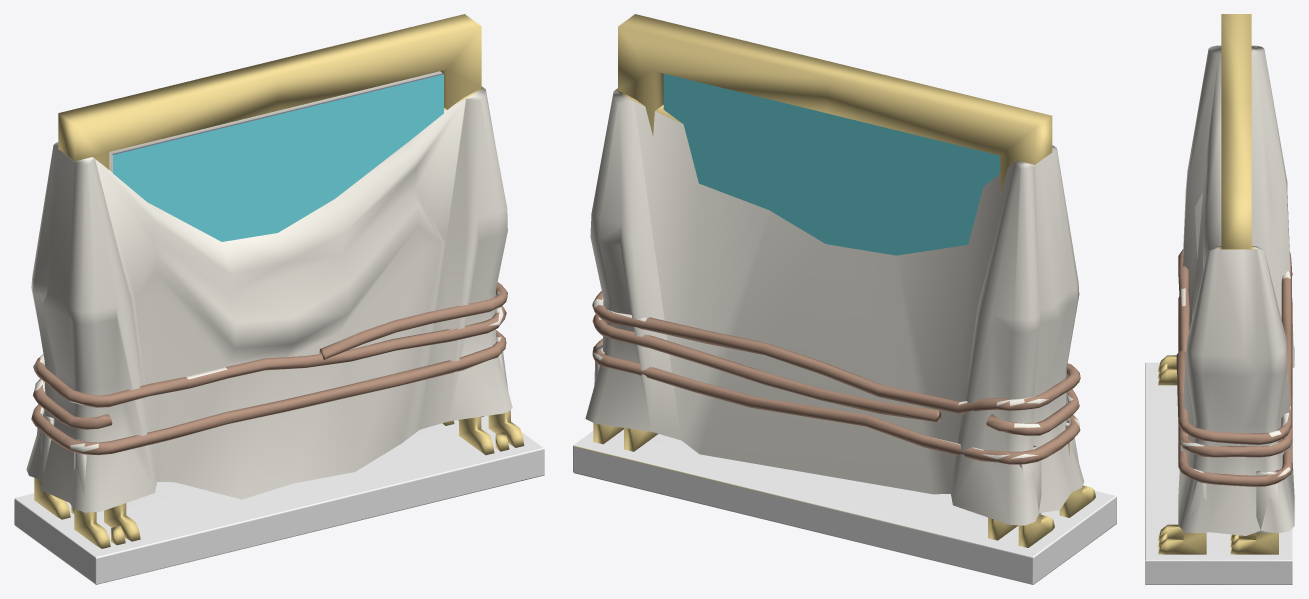
File: mirror_wide.glb
The picture shows the model from 3 angles, left to right: view 1: azimuth 30°, elevation 25°; view 2: azimuth 150°, elevation 25°; view 3: azimuth 270°, elevation 25°; orthographic projection. The views are drawn at different scales.
Visible parts, largest first — view 1: tripo_node_efe2532a-0976-4841-8cae-ffe52df4a61d, glass_f; view 2: tripo_node_efe2532a-0976-4841-8cae-ffe52df4a61d, glass_b; view 3: tripo_node_efe2532a-0976-4841-8cae-ffe52df4a61d.
Boxes of the visible parts, left/top/right/bottom form: tripo_node_efe2532a-0976-4841-8cae-ffe52df4a61d: left=14, top=14, right=544, bottom=584; glass_f: left=113, top=74, right=443, bottom=241; tripo_node_efe2532a-0976-4841-8cae-ffe52df4a61d: left=573, top=14, right=1116, bottom=584; glass_b: left=663, top=73, right=999, bottom=255; tripo_node_efe2532a-0976-4841-8cae-ffe52df4a61d: left=1145, top=14, right=1294, bottom=584.
Bounding box in the file's own units: 0.998 × 0.9004 × 0.3184.
